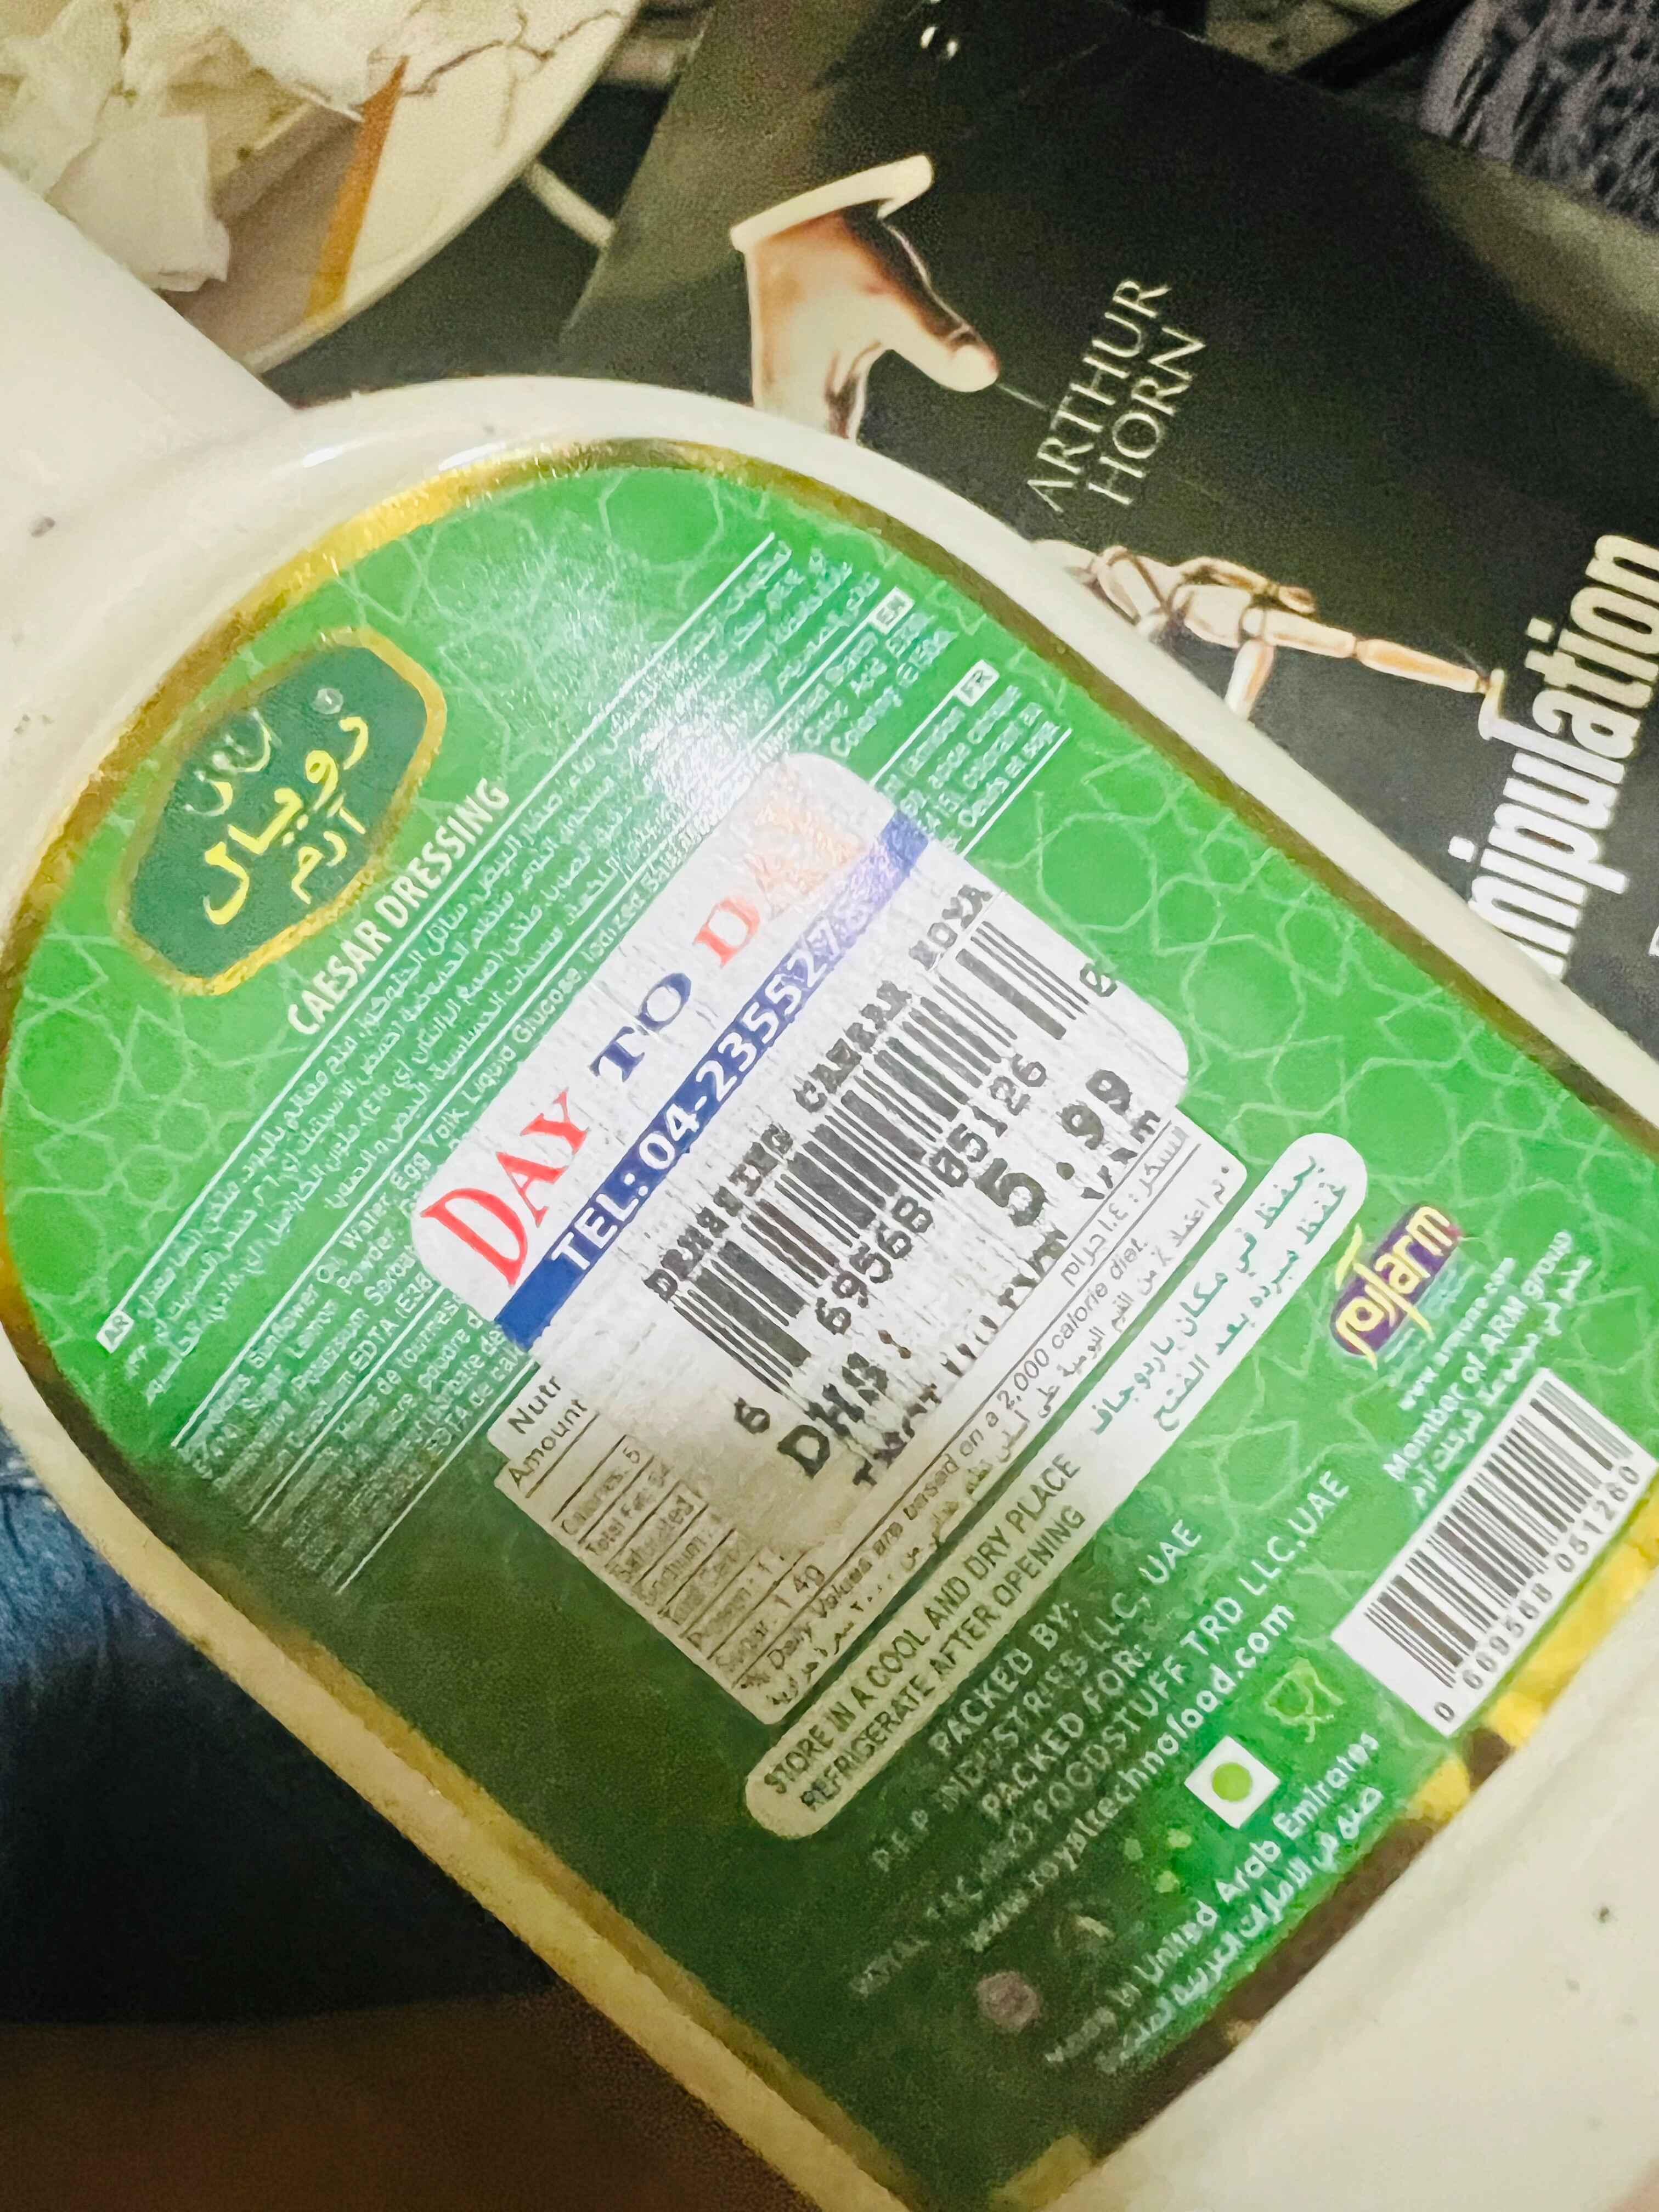PriceTagBig: (406, 756, 1182, 1569)
